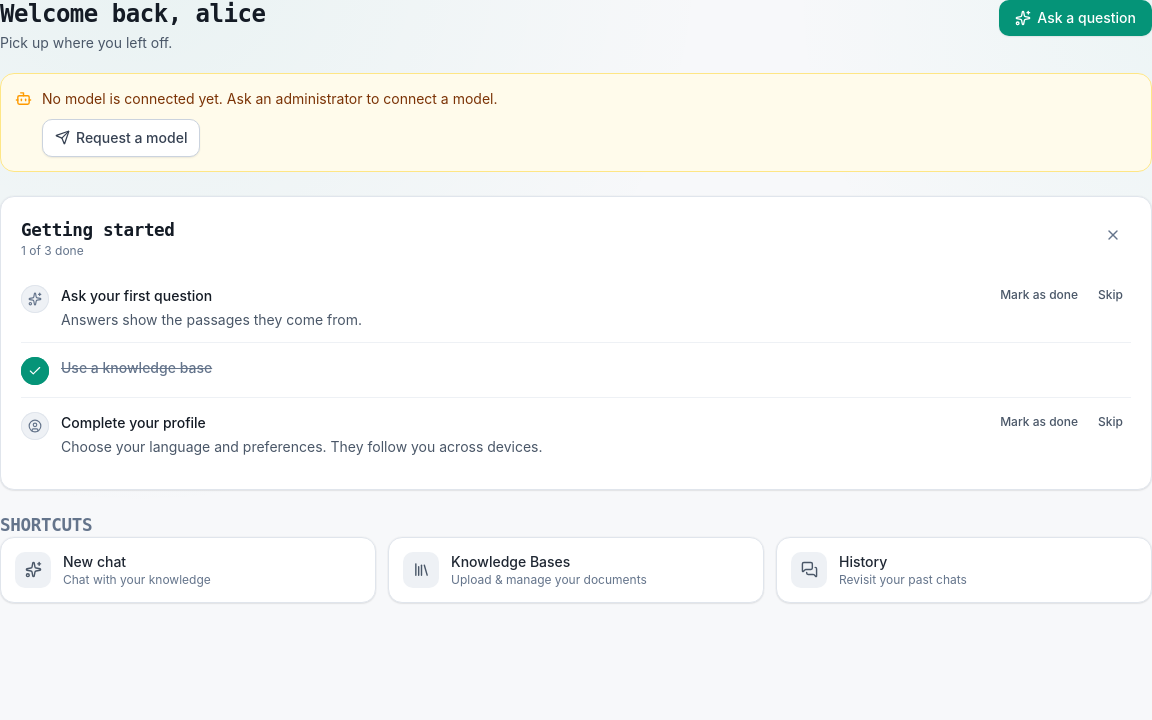
Test: model not connected › asks a member to contact an administrator
The width and height of the screenshot is (1152, 720).
Expected: the text "Ask an administrator to connect a model" is shown, x1=42 y1=90 x2=498 y2=107
Note: ...and lets them ask from right there (client#126 Q2).
Click the button "Request a model". click: (121, 138)
box: x1=42 y1=118 x2=200 y2=156
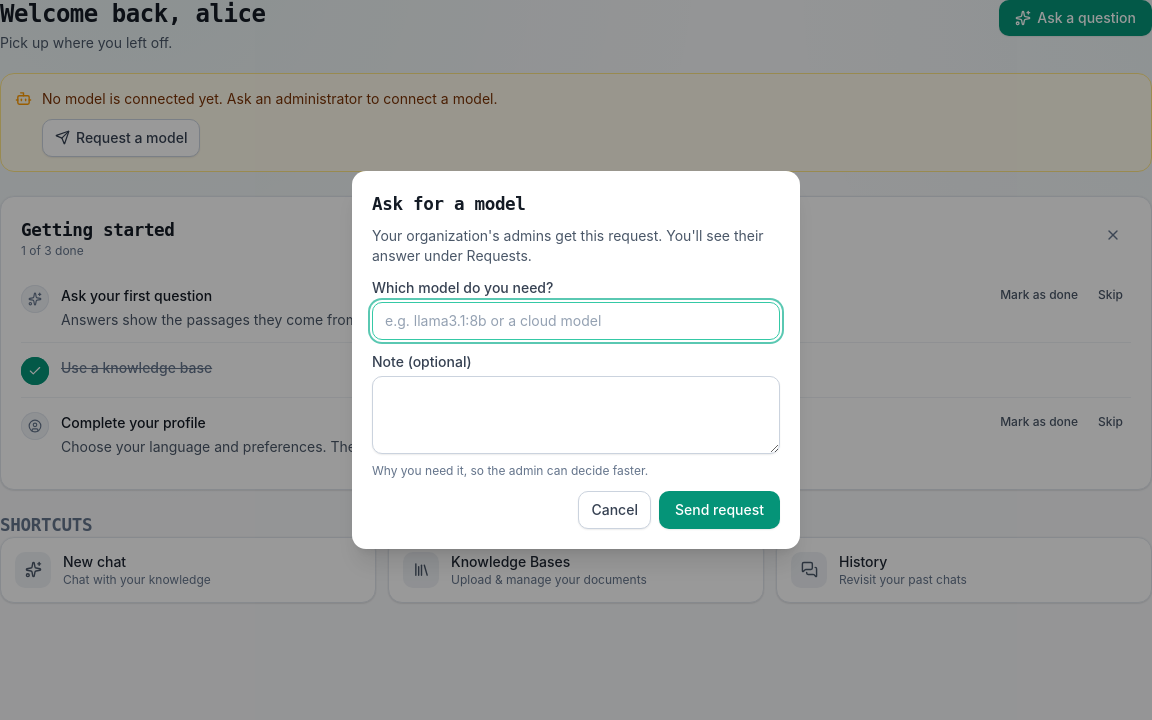
Expected: the dialog "Ask for a model" is shown, x1=352 y1=171 x2=800 y2=549
